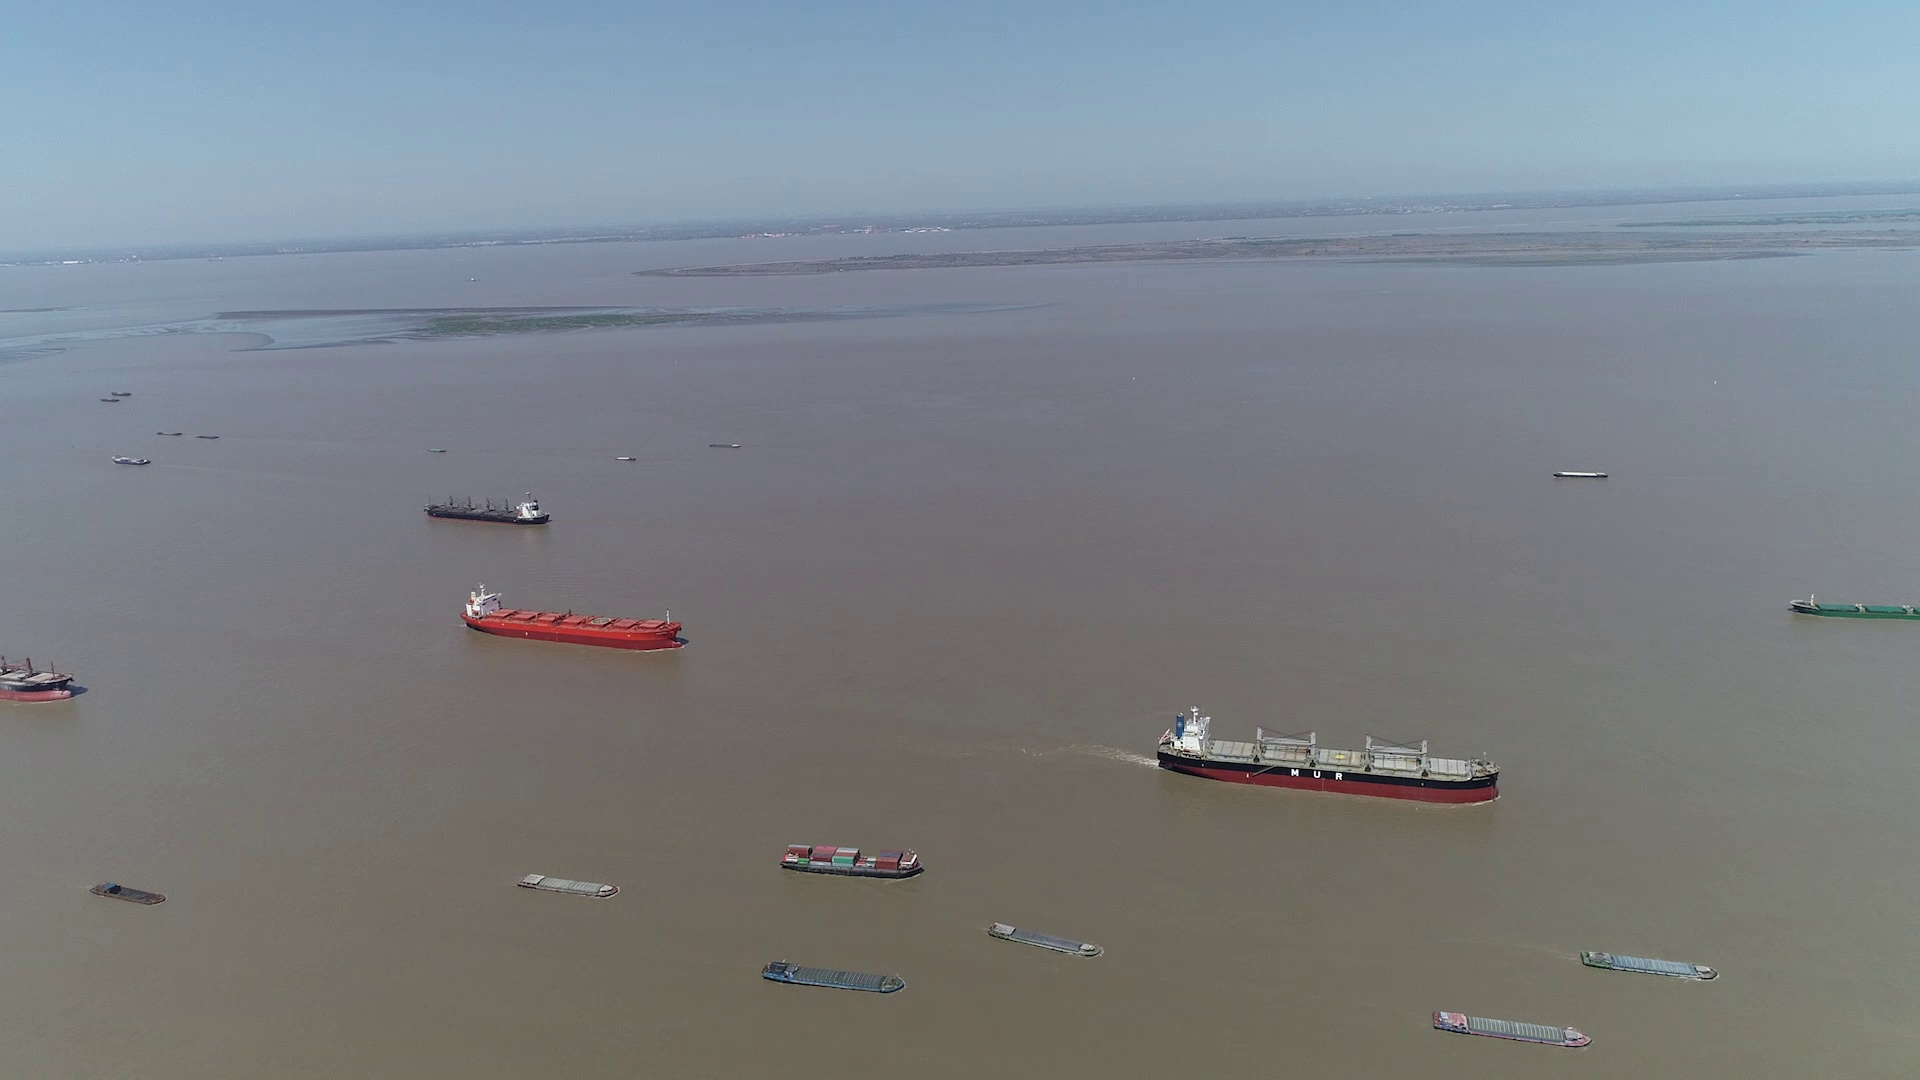ship: (1158, 705, 1498, 800), (464, 584, 675, 651), (1435, 1010, 1588, 1048), (760, 960, 907, 996), (1, 640, 80, 704), (782, 843, 924, 878), (1580, 949, 1716, 981), (985, 922, 1102, 957), (425, 491, 550, 524), (1788, 595, 1920, 621), (518, 872, 618, 897), (91, 880, 166, 906), (1552, 469, 1607, 479), (112, 454, 152, 465), (709, 443, 742, 450)
